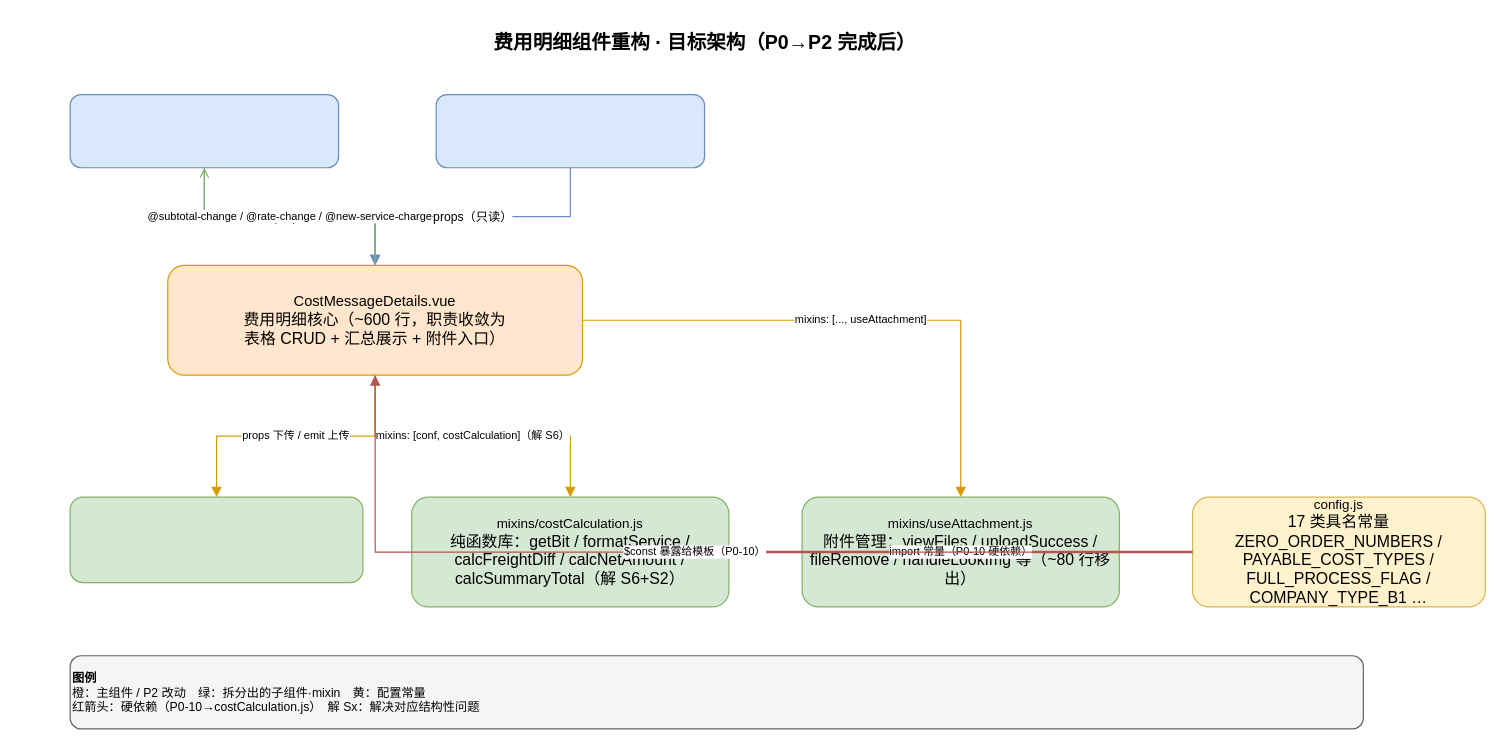
The diagram is 1507 pixels wide and 750 high, and some of its shapes have lost their labels. Here are the shapes that lost their labels. From the top down, the centre of each, then its label:
At point (204, 130): "edit.vue 编辑页（保存/提交流程）".
At point (570, 130): "read.vue 查看页（只读模板）".
At point (216, 539): "CostSummaryTable.vue 汇总副表（解 S8，~250 行移出）".
